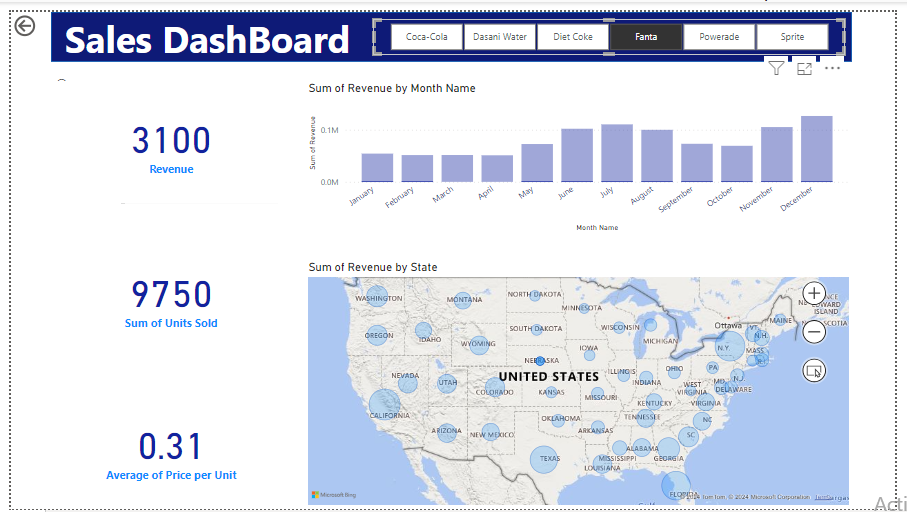

What the dashboard file says about the page in this screenshot:
{"tool":"powerbi","page":{"name":"Page 1","canvas":[1280,720],"ordinal":0},"visuals":[{"type":"shape","box":[57.6,0,1160.6,72],"z":0},{"type":"card","box":[57.6,87.8,430.6,188.6],"z":1000},{"type":"card","fields":{"Values":["Sum(Data.Revenue)"]},"box":[59,99.4,345.6,177.1],"z":2000},{"type":"card","fields":{"Values":["Avg(Data.Price per Unit)"]},"box":[59,542.9,345.6,177.1],"z":3000},{"type":"card","fields":{"Values":["Sum(Data.Units Sold)"]},"box":[59,322.6,345.6,177.1],"z":4000},{"type":"actionButton","box":[0,0,100,40],"z":5000},{"type":"columnChart","fields":{"Category":["Data.Month Name"],"Y":["Sum(Data.Revenue)"]},"box":[426.2,99.4,793.4,223.2],"z":6000},{"type":"map","fields":{"Category":["Data.State"],"Size":["Sum(Data.Revenue)"]},"box":[426.2,360,793.4,360],"z":7000},{"type":"slicer","fields":{"Values":["Data.Beverage Brand"]},"box":[524.2,10.1,684,51.8],"z":7001}]}

Visuals, with their boxes on the page's 1280x720 design canvas (x1, y1, x2, y2). These are canvas units, not pixel positions in the 907x512 screenshot, which may show the page scaled, cropped or inside an application window:
shape: BBox(58, 0, 1218, 72)
card: BBox(58, 88, 488, 276)
card - Sum(Data.Revenue): BBox(59, 99, 405, 276)
card - Avg(Data.Price per Unit): BBox(59, 543, 405, 720)
card - Sum(Data.Units Sold): BBox(59, 323, 405, 500)
actionButton: BBox(0, 0, 100, 40)
columnChart - Data.Month Name x Sum(Data.Revenue): BBox(426, 99, 1220, 323)
map - Data.State x Sum(Data.Revenue): BBox(426, 360, 1220, 720)
slicer - Data.Beverage Brand: BBox(524, 10, 1208, 62)
